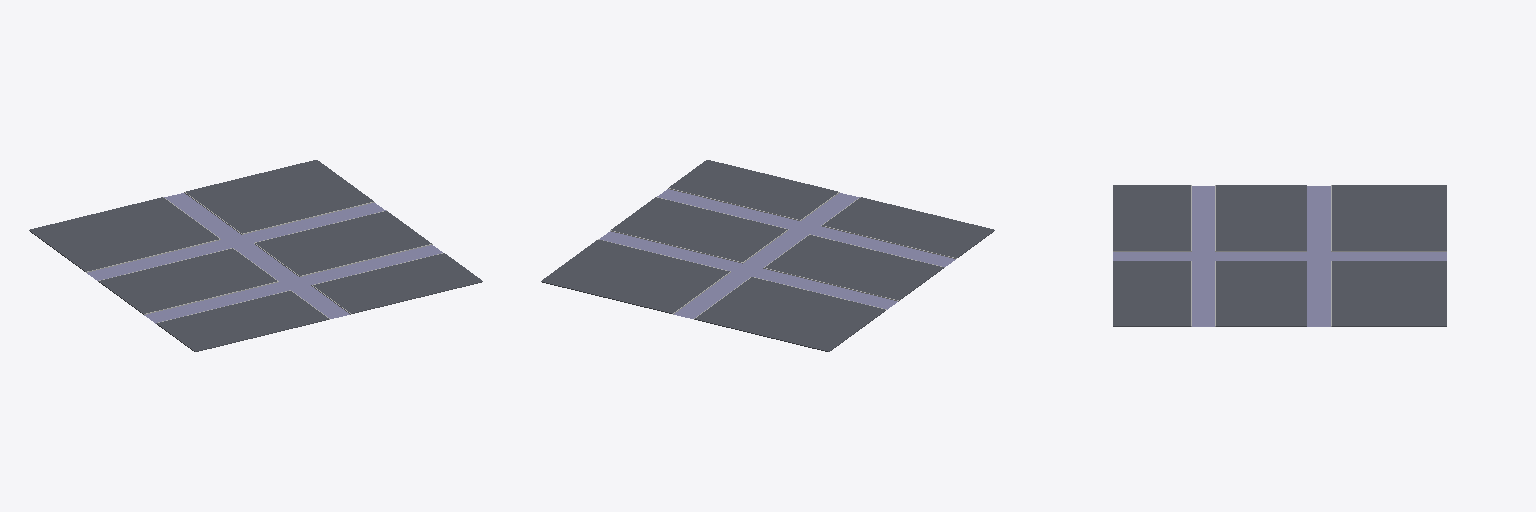
Rendered from 03Ground.obj.
3 views of the same model, side by side, from view 1: azimuth 30°, elevation 25°; view 2: azimuth 150°, elevation 25°; view 3: azimuth 270°, elevation 25° (orthographic).
Visible parts, largest first — view 1: Ground, Road, Side; view 2: Ground, Road, Side; view 3: Ground, Road, Side.
Part boxes in pixels (x1,y1,x2,y2): Ground: (29,160,482,351); Road: (87,193,442,323); Side: (86,192,442,322); Ground: (541,160,994,351); Road: (600,189,955,318); Side: (598,188,956,319); Ground: (1113,185,1446,326); Road: (1113,186,1446,326); Side: (1113,185,1446,326).
Bounding box in the file's own units: 2000 × 5 × 2000.